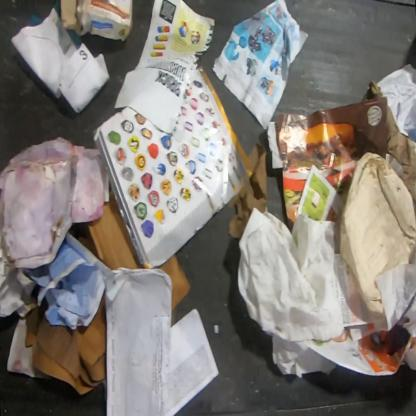cardboard: (0, 136, 106, 270), (24, 289, 106, 396), (86, 188, 144, 271), (59, 0, 133, 43), (151, 253, 192, 313)
